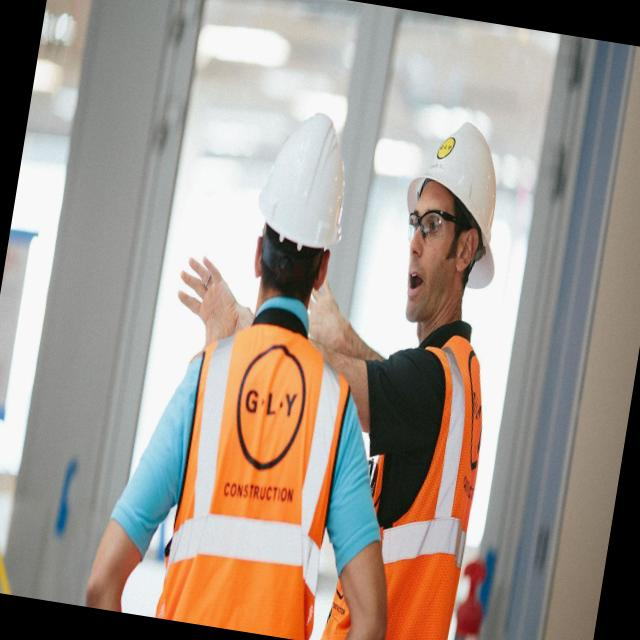helmet: (394, 102, 524, 296), (244, 103, 366, 264)
vest: (150, 310, 373, 640), (353, 311, 511, 640)
